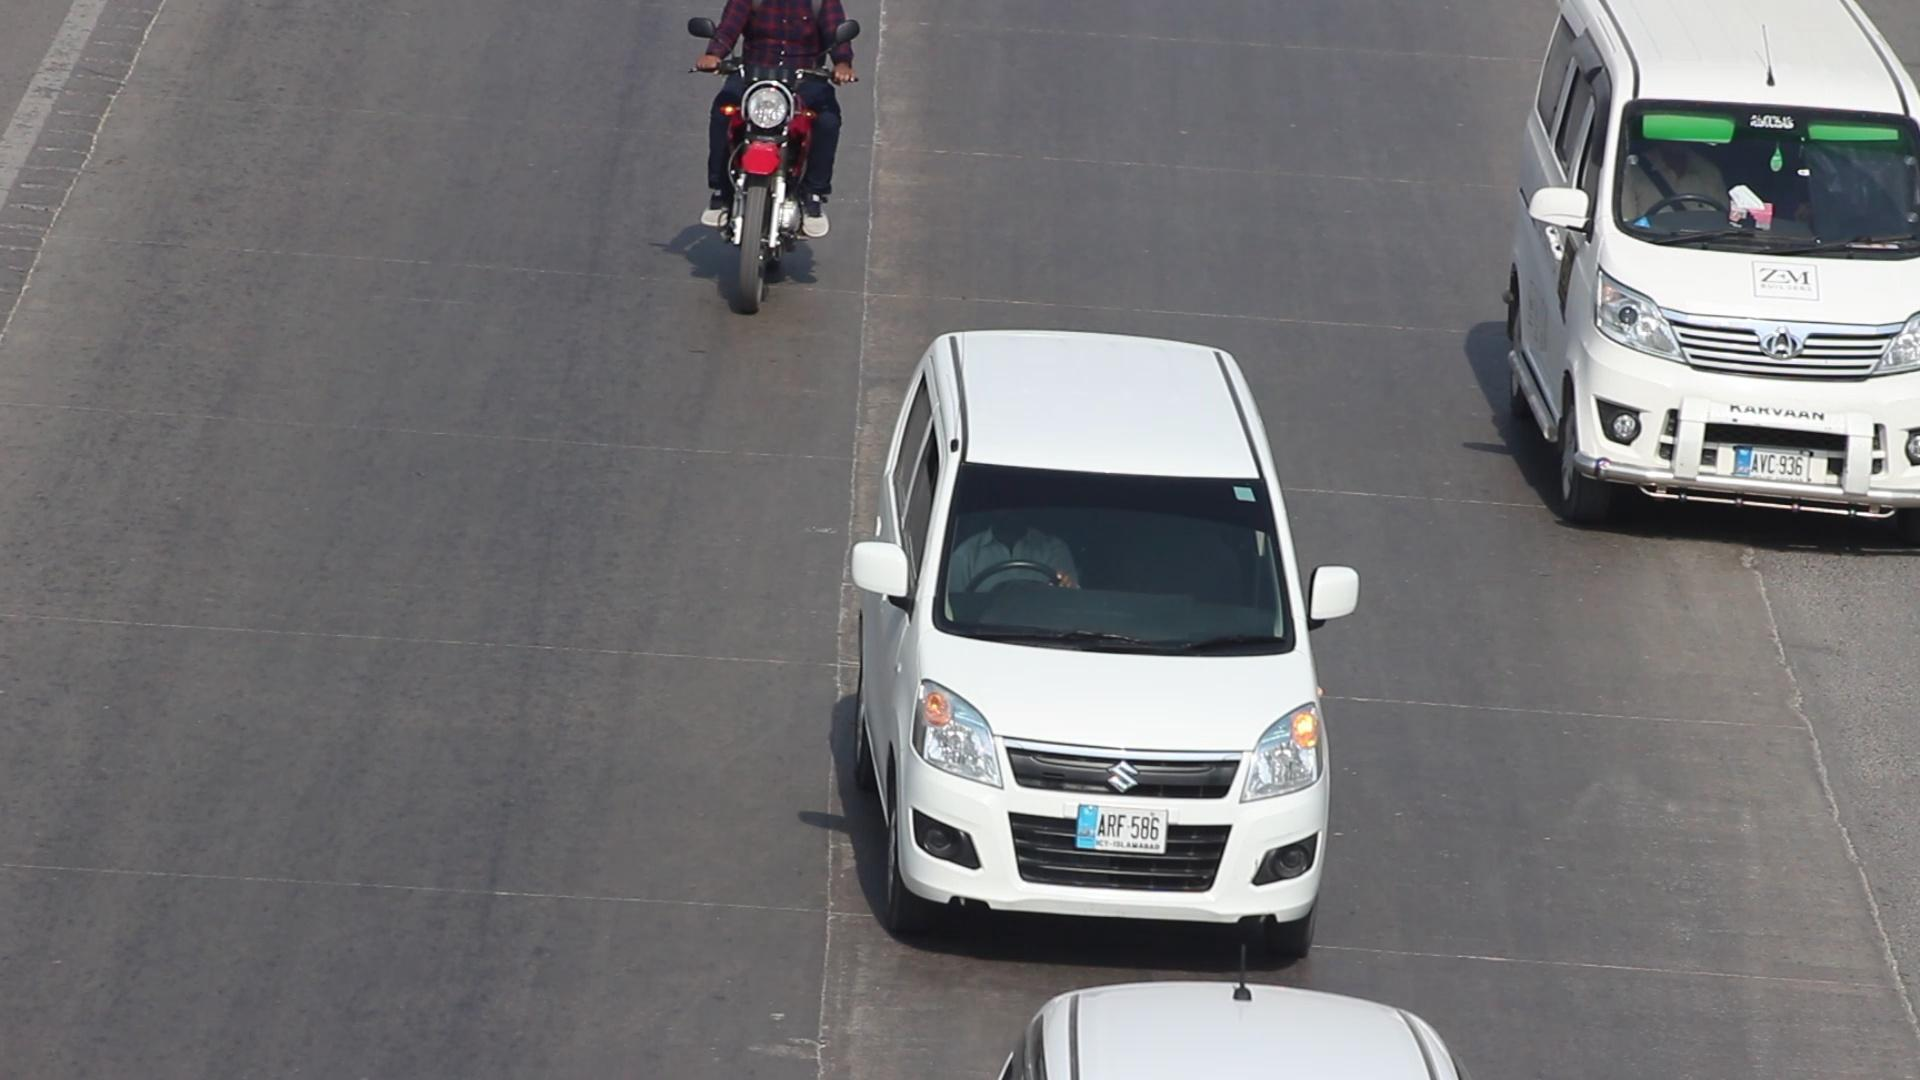windshield: (918, 440, 1304, 646)
